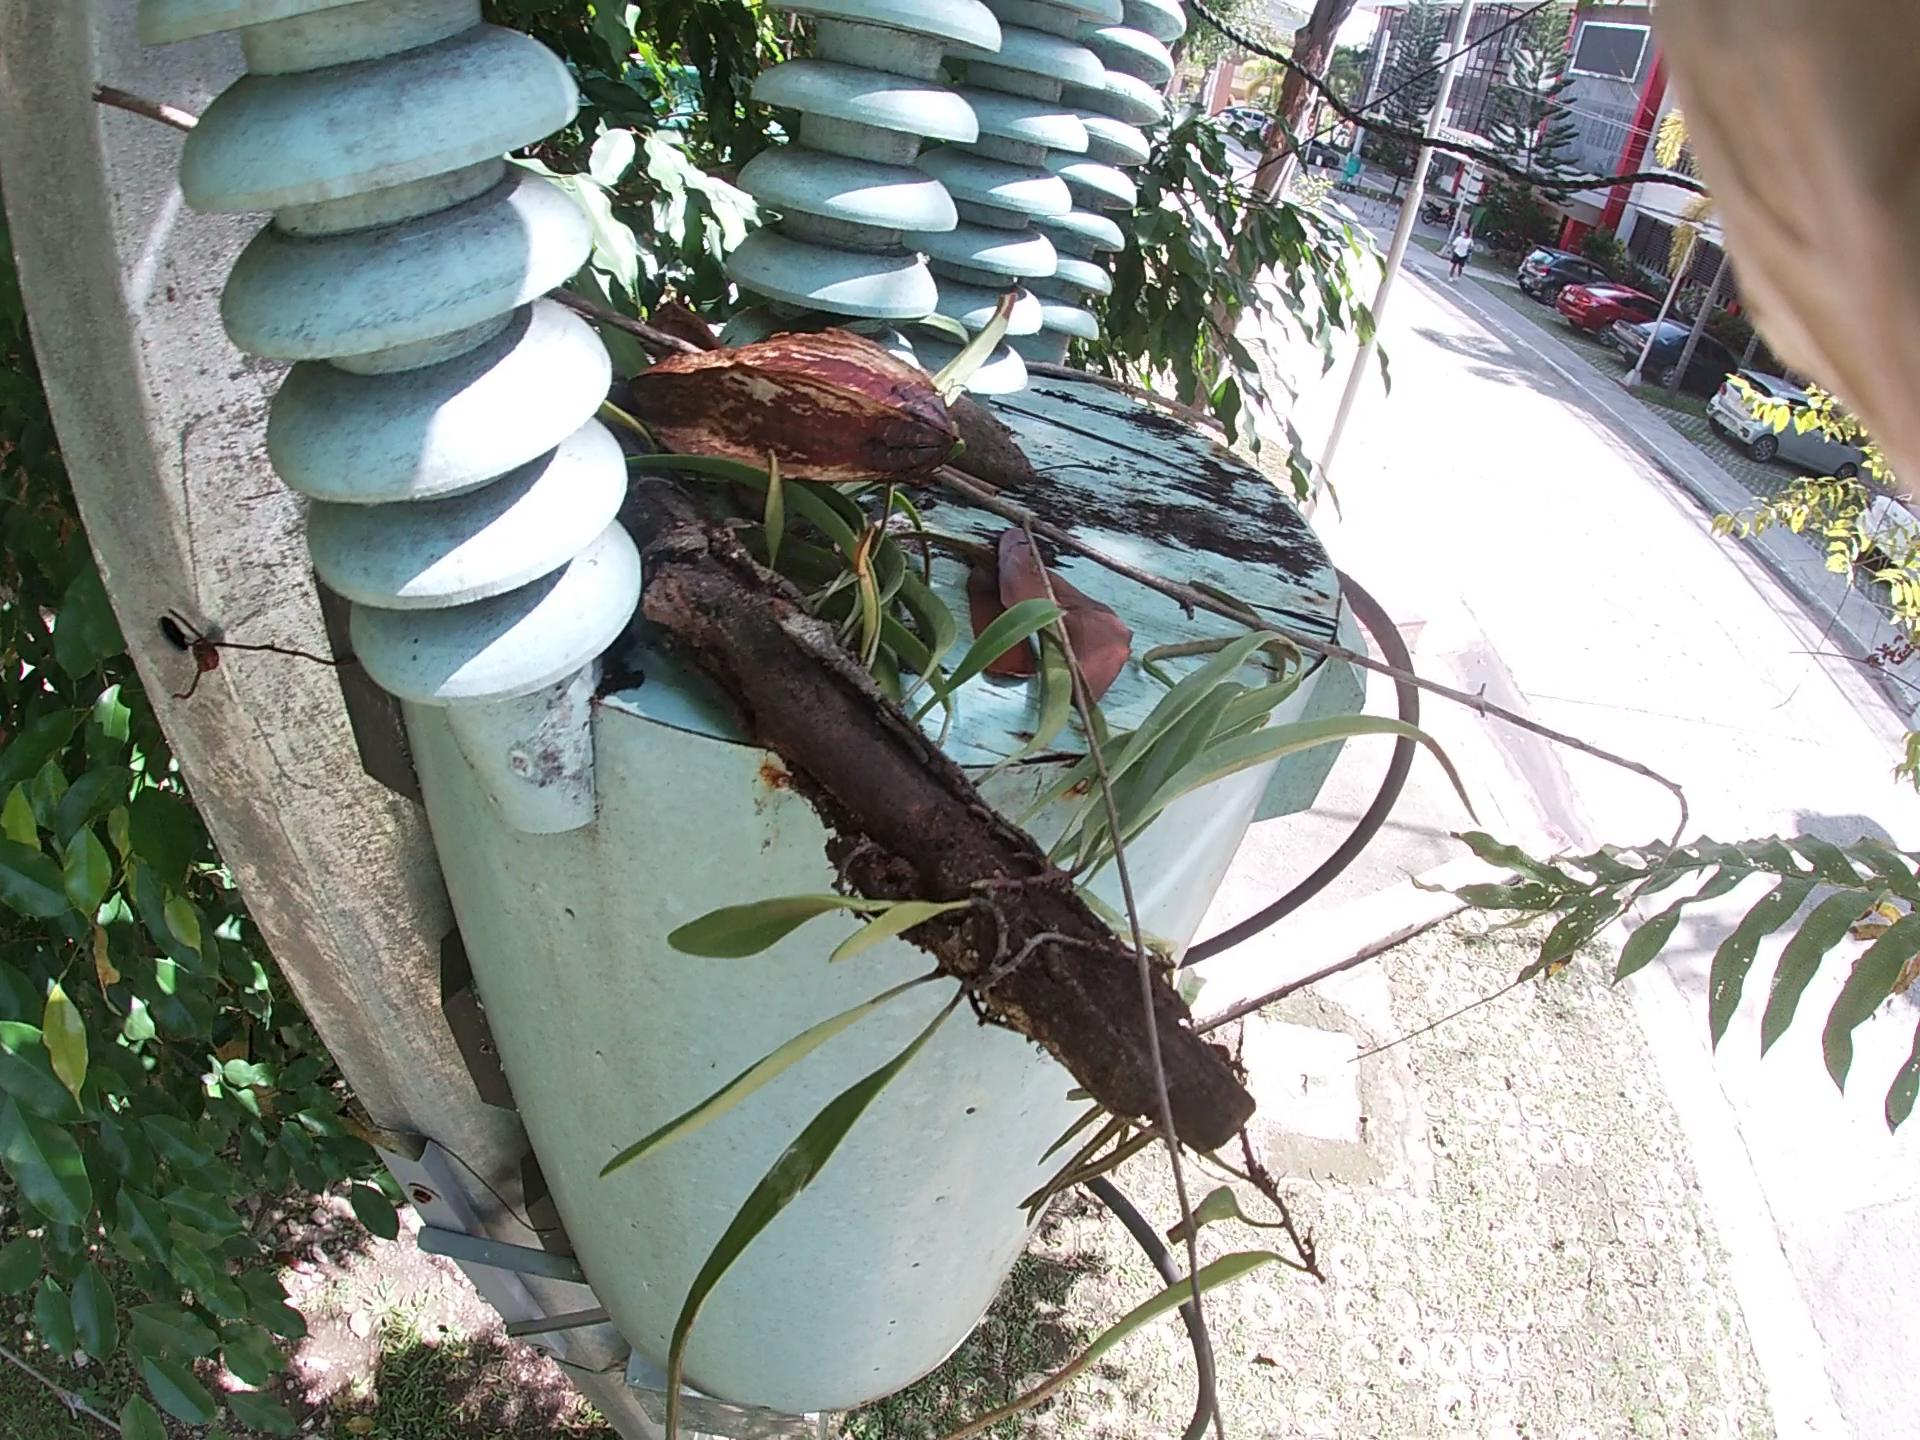branch with leaves: (544, 100, 1311, 1206)
leaf: (890, 470, 1184, 687)
mahogany fruit: (841, 247, 1114, 569), (639, 327, 999, 529)
tree branch: (513, 195, 1460, 749), (1025, 303, 1317, 421)
